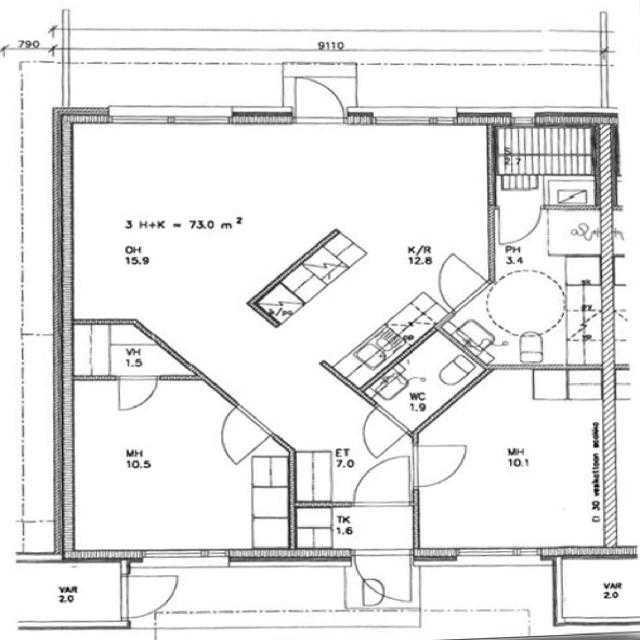door: (350, 452, 412, 510), (410, 436, 470, 491), (119, 572, 177, 624), (289, 75, 347, 124), (493, 202, 543, 248), (115, 373, 160, 413), (221, 439, 253, 468)
window: (447, 542, 547, 568), (136, 545, 231, 569), (109, 110, 234, 128), (369, 110, 455, 130), (509, 115, 537, 128)
zone: (422, 378, 606, 558), (15, 560, 133, 628), (492, 125, 600, 190), (554, 556, 640, 625), (544, 208, 604, 256), (539, 177, 598, 209)
